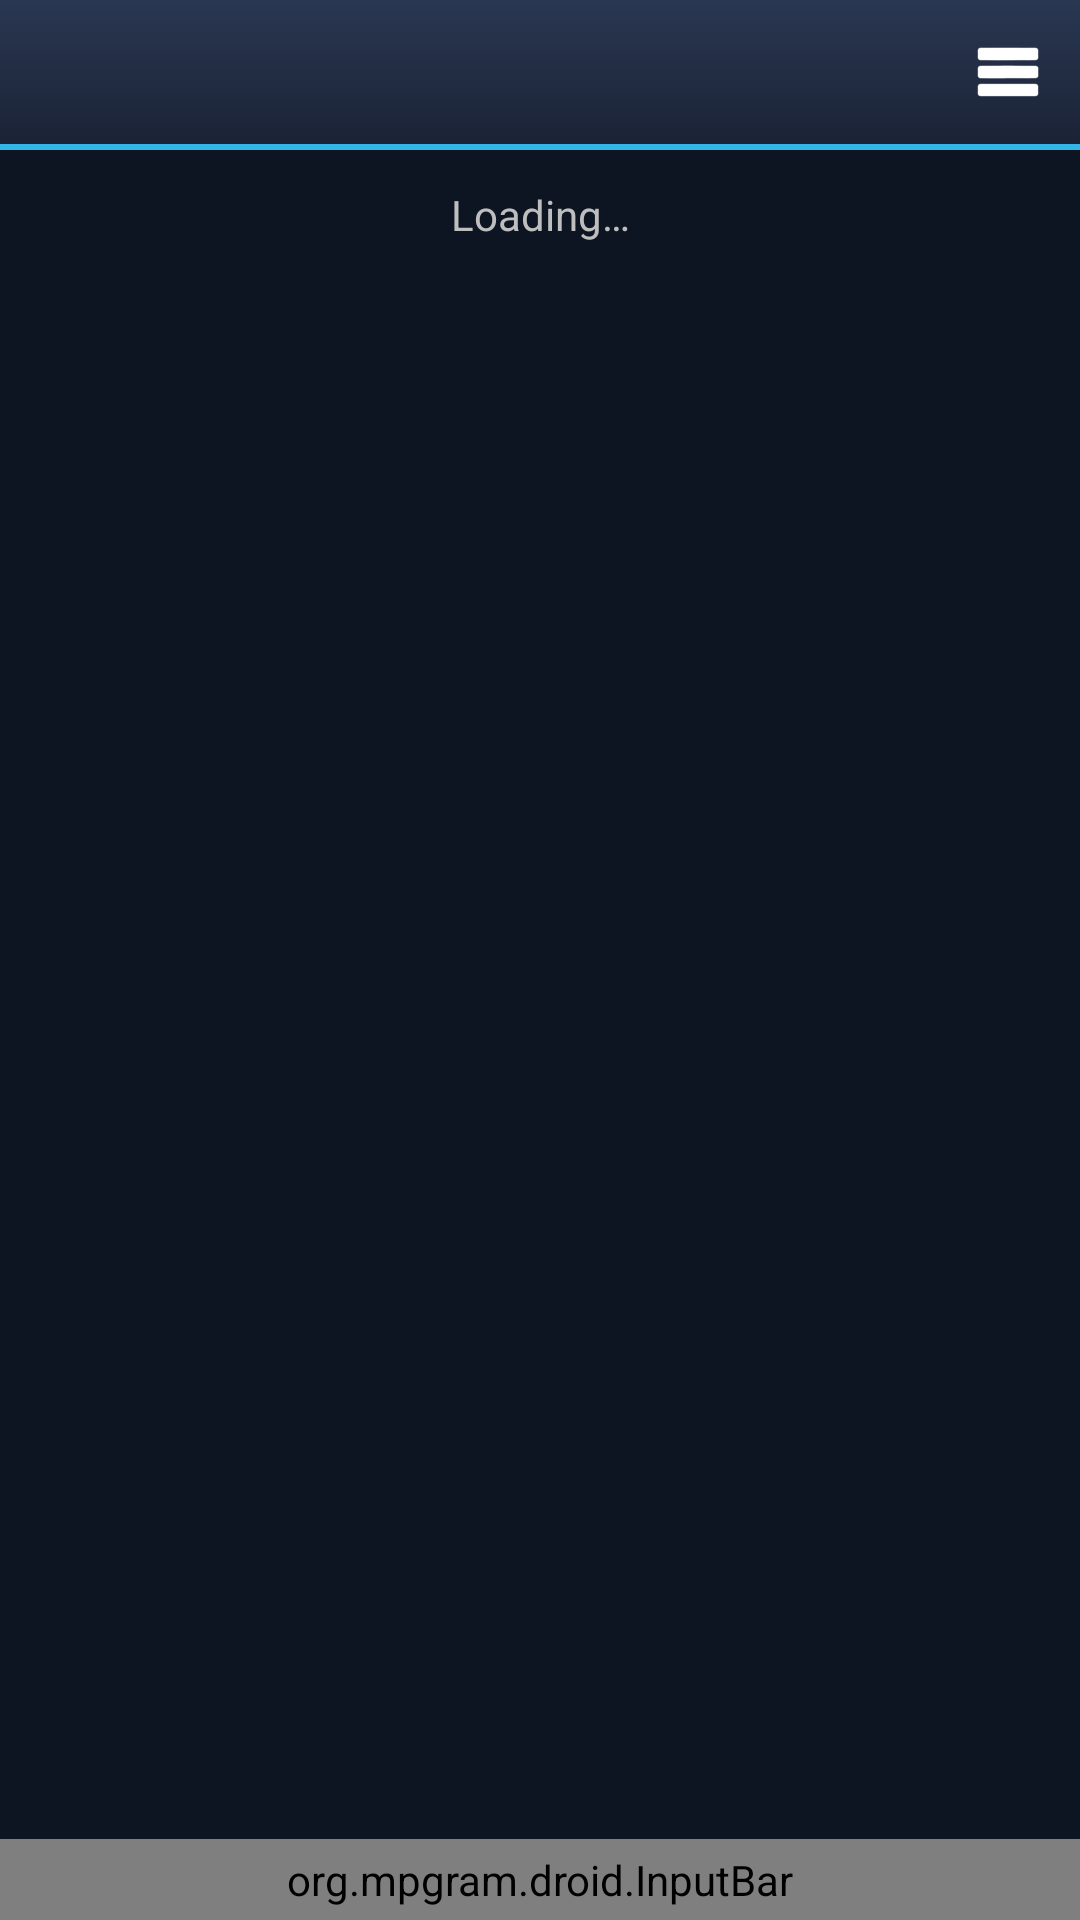

Screen size 1080*1920. Icon name, then its center in pixels as (x,y):
Menu: (1008,72)
